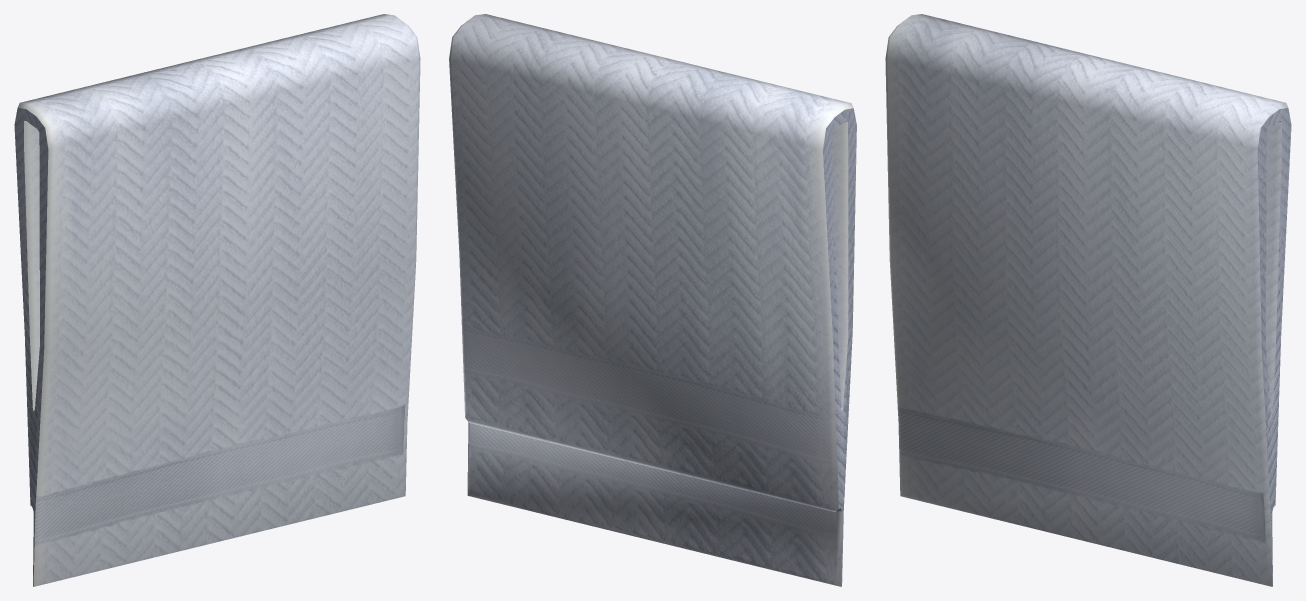
Rendered from PROPS_towel_01.FBX.
3 renders of one model, left to right at view 1: azimuth 30°, elevation 25°; view 2: azimuth 150°, elevation 25°; view 3: azimuth 330°, elevation 25°, orthographic.
Visible parts, largest first — view 1: PROPS_towel_01; view 2: PROPS_towel_01; view 3: PROPS_towel_01.
Part boxes in pixels (x1,y1,x2,y2): PROPS_towel_01: (14,14,420,586); PROPS_towel_01: (449,14,856,586); PROPS_towel_01: (885,14,1291,586).
Size of the model in its own units: 53.17 by 65.09 by 9.34.
